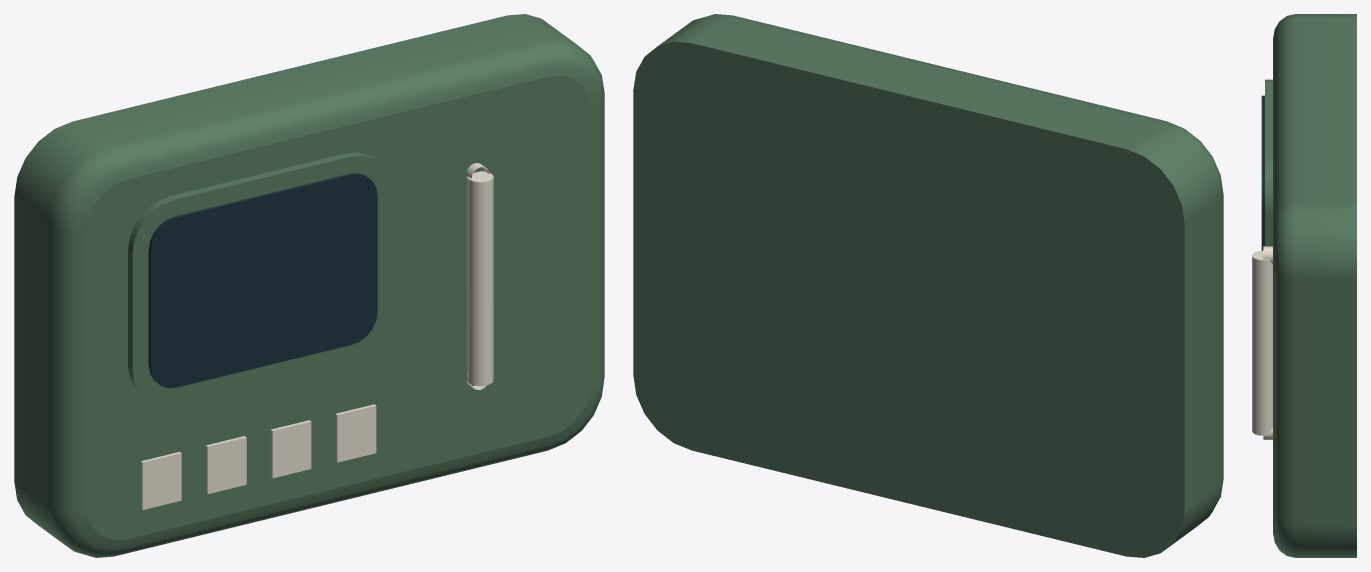
File: t60_scrubber.obj
The picture shows the model from 3 angles, left to right: view 1: azimuth 30°, elevation 25°; view 2: azimuth 150°, elevation 25°; view 3: azimuth 270°, elevation 25°; orthographic projection. The views are drawn at different scales.
Parts seen in each view (by area): view 1: t60_scrubber; view 2: t60_scrubber; view 3: t60_scrubber.
Part boxes in pixels (x1,y1,x2,y2): t60_scrubber: [14, 14, 604, 557]; t60_scrubber: [633, 14, 1223, 557]; t60_scrubber: [1252, 14, 1356, 557].
Size of the model in its own units: 1.7 by 1.2 by 0.325.
